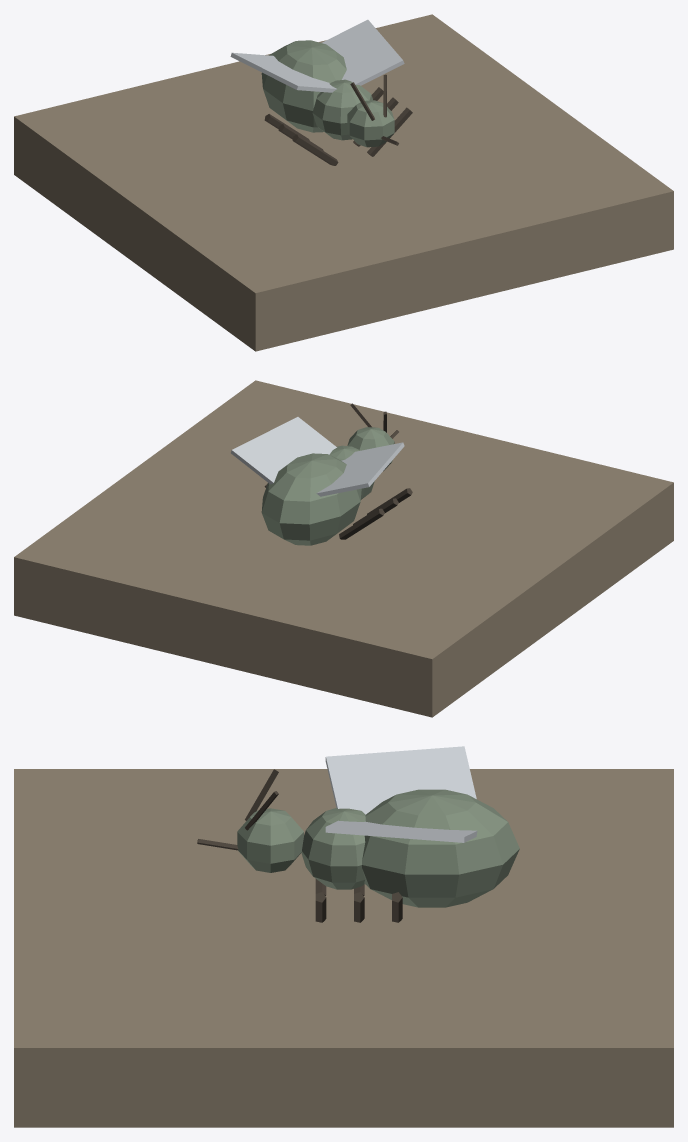
Rendered from bug_horsefly.glb.
3 views of the same model, one above another, from view 1: azimuth 30°, elevation 25°; view 2: azimuth 150°, elevation 25°; view 3: azimuth 270°, elevation 25° (orthographic). The views are drawn at different scales.
Parts seen in each view (by area): view 1: Base, TurretMesh, HeadMesh; view 2: Base, TurretMesh, HeadMesh; view 3: Base, TurretMesh, HeadMesh.
Part boxes in pixels (bbox=[...]): Base: bbox=[14, 14, 673, 351]; TurretMesh: bbox=[230, 19, 412, 165]; HeadMesh: bbox=[347, 74, 398, 147]; Base: bbox=[14, 380, 673, 717]; TurretMesh: bbox=[231, 417, 412, 545]; HeadMesh: bbox=[347, 403, 398, 471]; Base: bbox=[14, 769, 673, 1127]; TurretMesh: bbox=[301, 746, 519, 922]; HeadMesh: bbox=[197, 769, 303, 872].
Size of the model in its own units: 1.8 by 0.6249 by 1.8.
